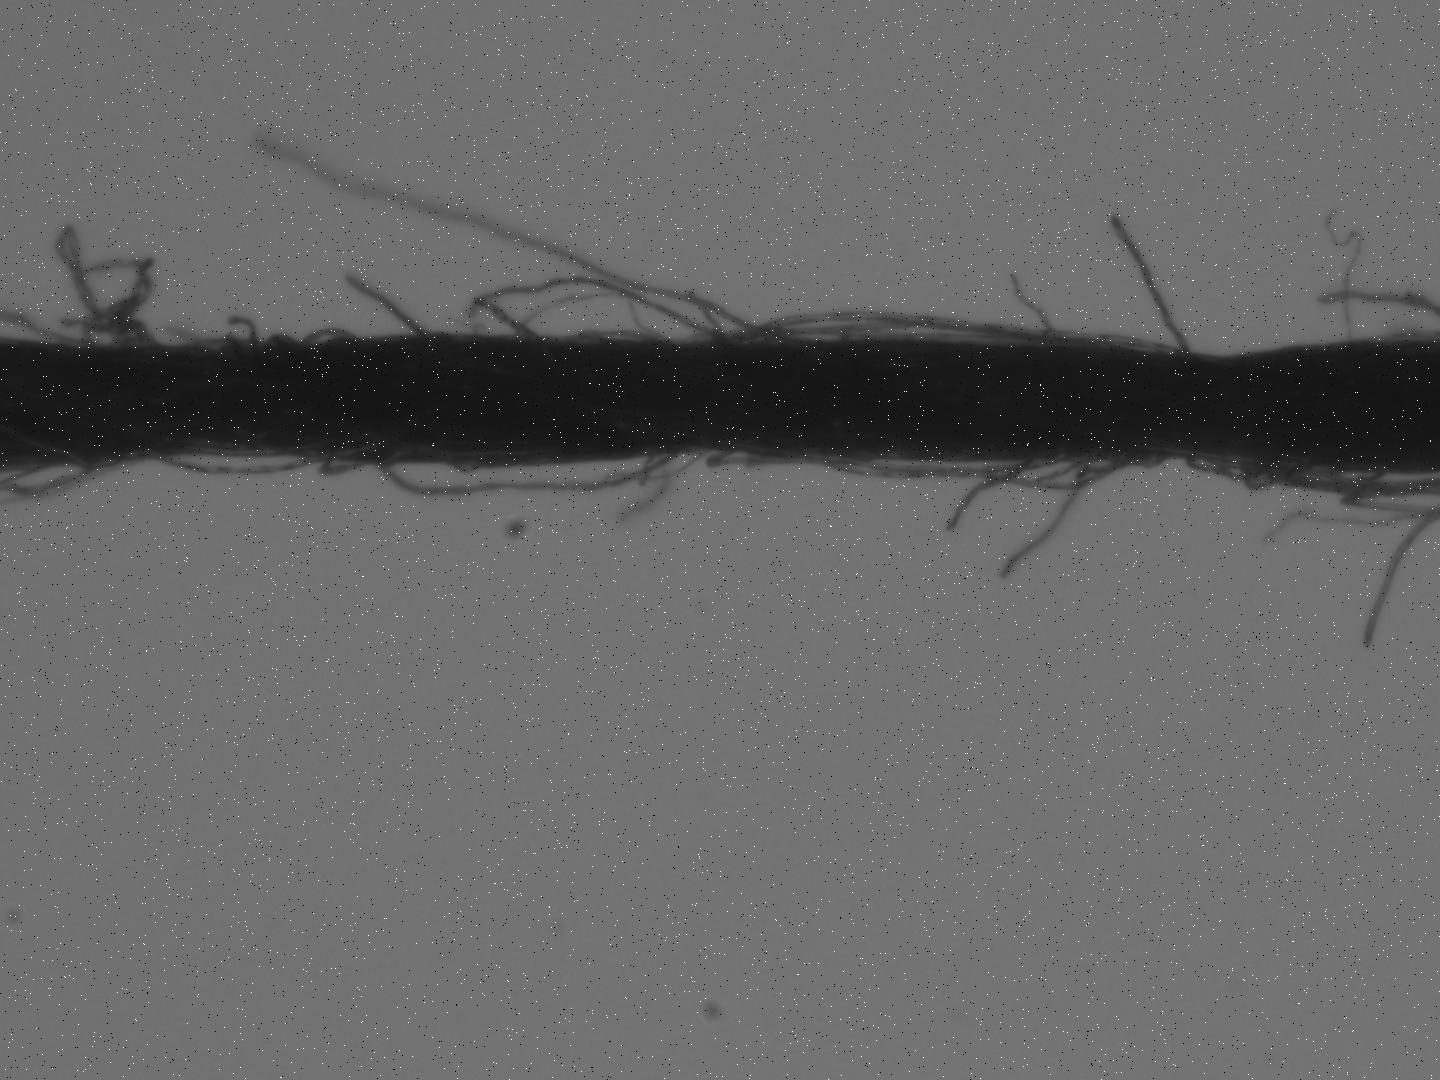loop_fiber: (46, 219, 158, 347), (396, 447, 689, 495), (746, 310, 1033, 341), (945, 452, 1032, 532), (162, 452, 342, 472), (1245, 456, 1314, 487), (1197, 455, 1273, 479), (302, 320, 357, 345), (578, 328, 661, 341)
protruding_fiber: (254, 134, 765, 332), (1107, 211, 1197, 352), (1002, 454, 1089, 575), (347, 269, 432, 344), (1010, 273, 1058, 340)
